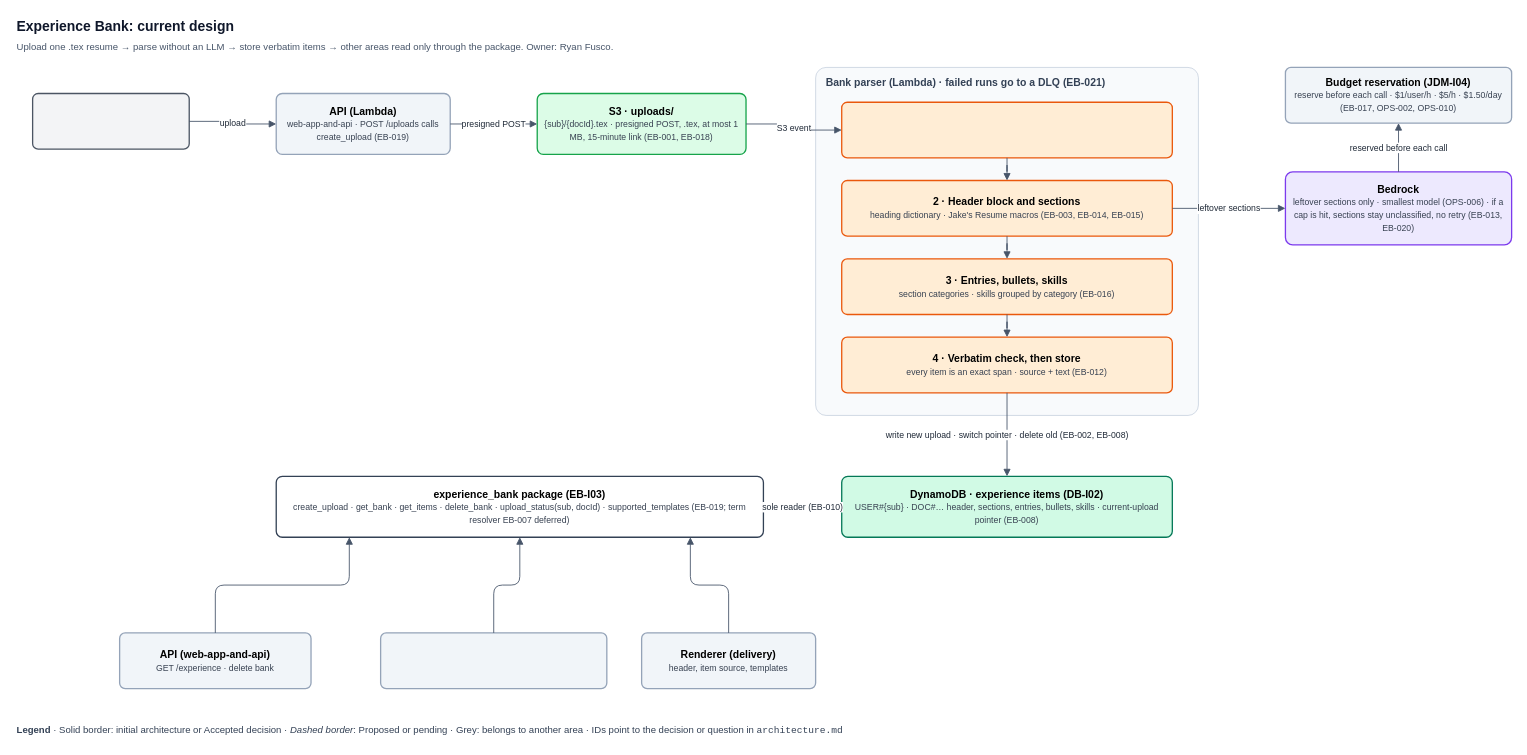
This 1527x755 diagram has some shape labels left out. Here are the shapes that lost their labels. From the top down, the centre of each, then its label:
At pixel 110 120: "Student browser".
At pixel 1007 129: "1 · Read as text, never compile reject \write18, \input, \openout, … (EB-009)".
At pixel 493 660: "Matcher (job-discovery-and-matching) reads bank items to rank".
